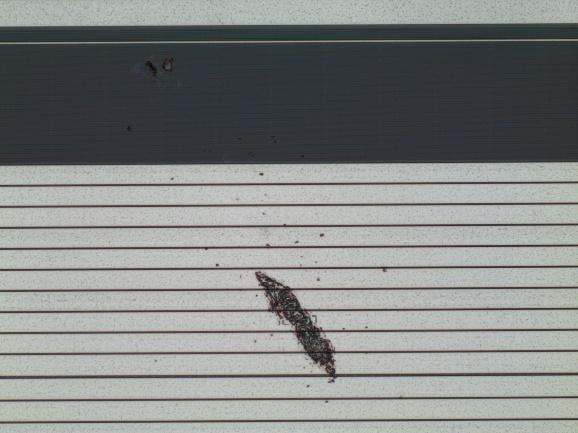PO CONTAMINATION: (124, 92, 407, 409)
